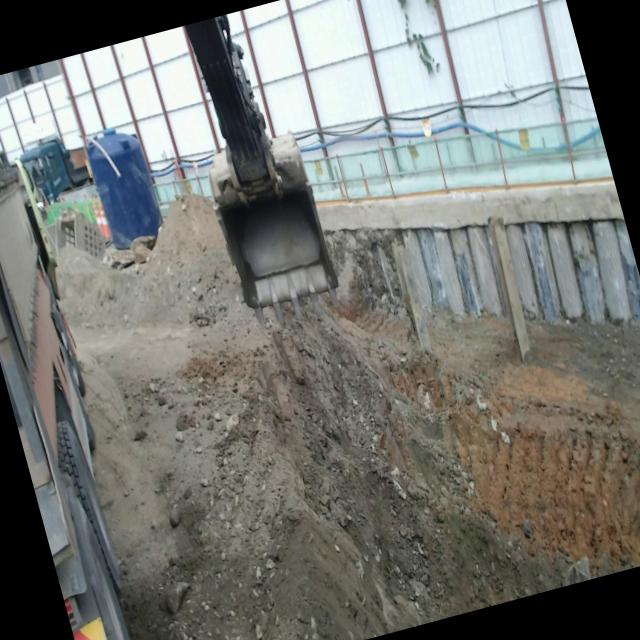white-sand: (57, 197, 640, 640)
